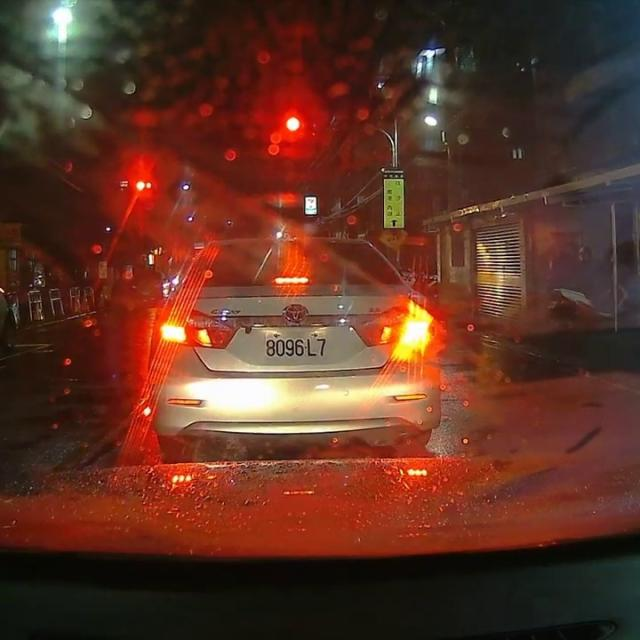Car: (145, 234, 442, 456)
